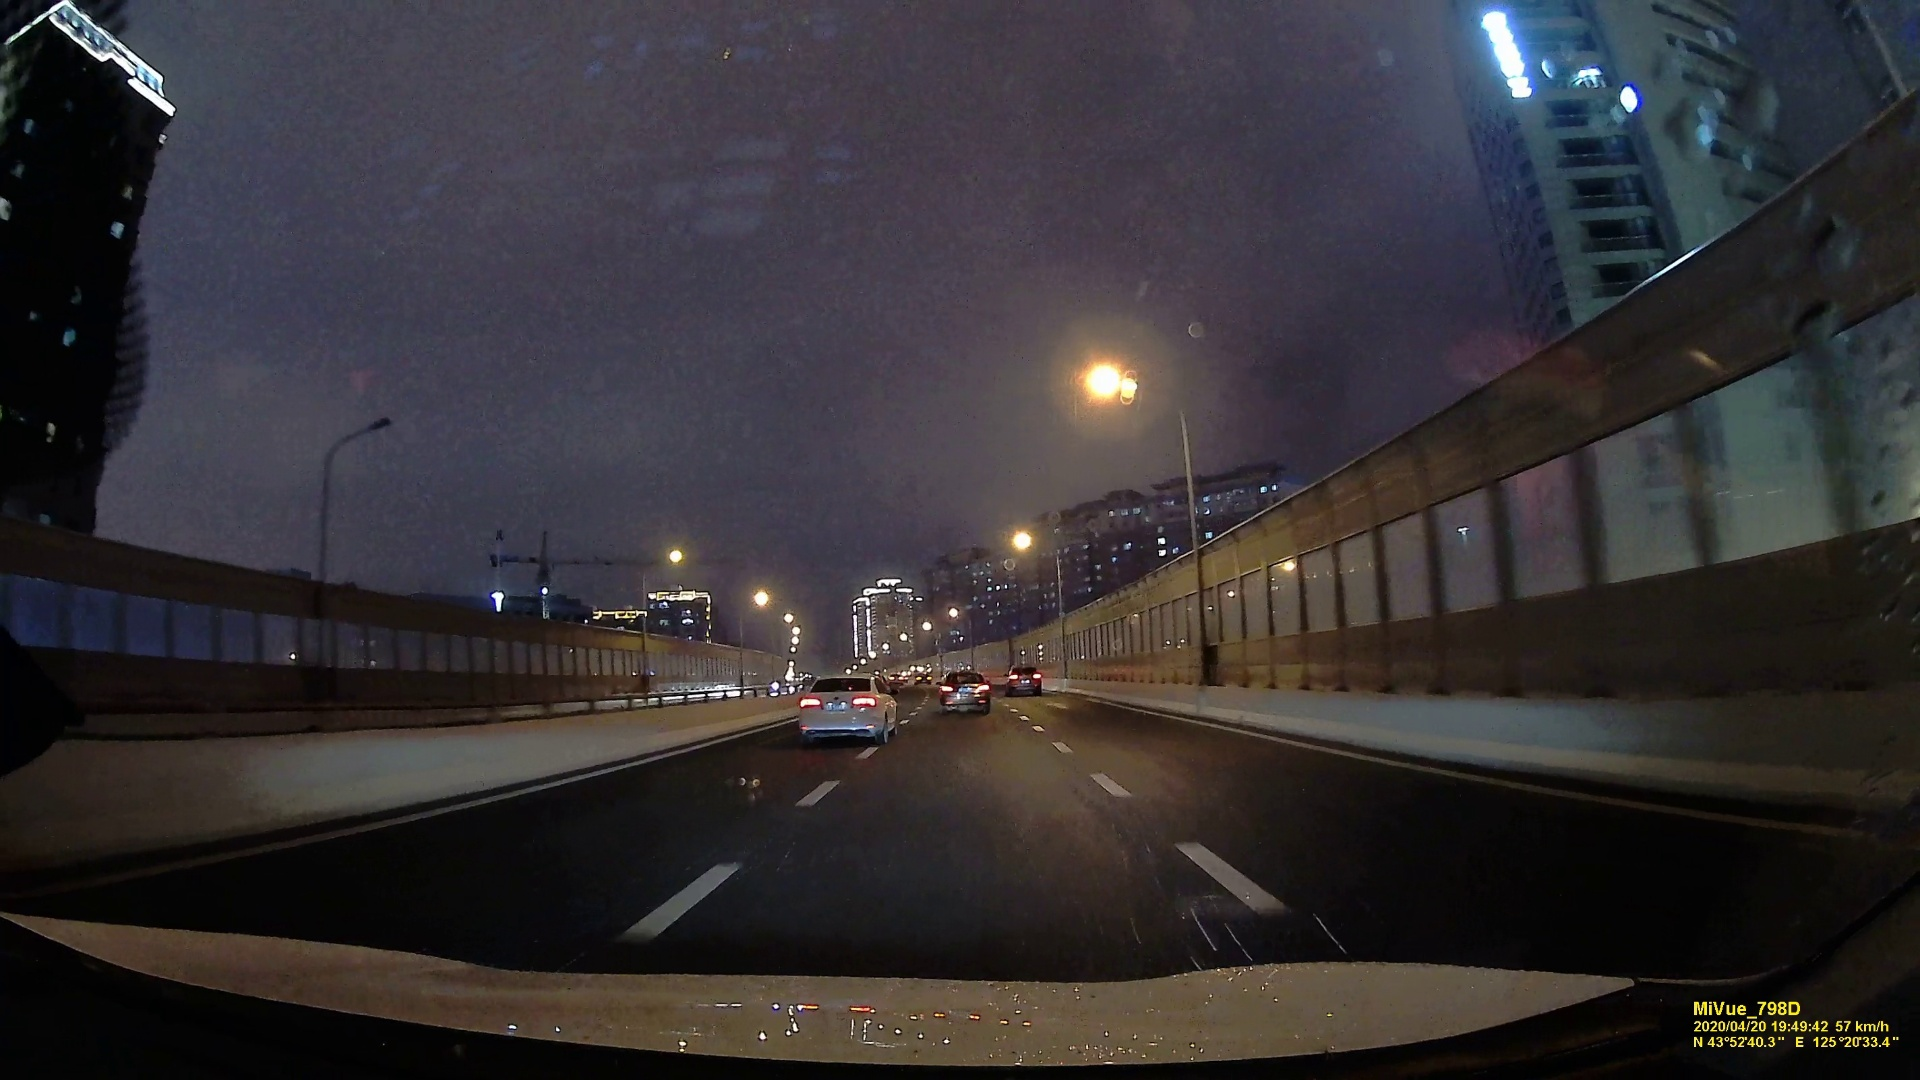vehicle: (799, 671, 899, 746), (936, 669, 992, 713), (1005, 663, 1042, 694)
